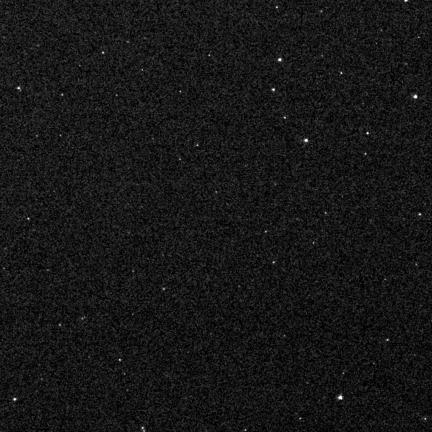blob: (272, 88, 276, 92), (414, 95, 417, 99), (278, 58, 281, 62)
